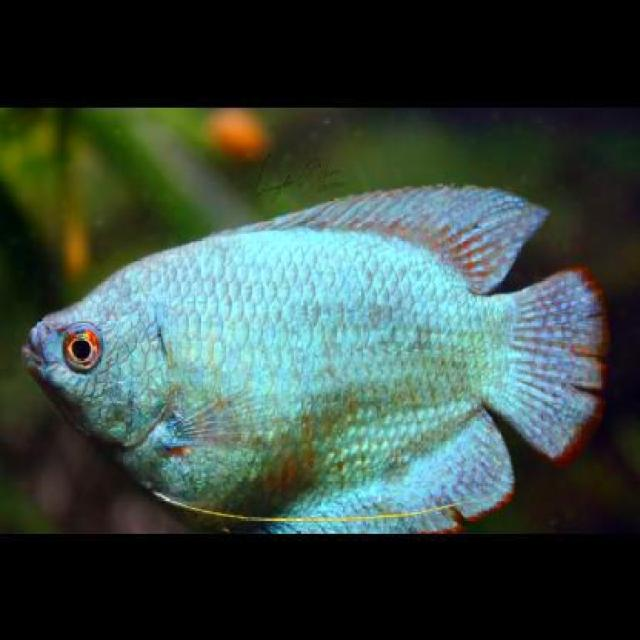Gourami: (20, 183, 608, 532)
